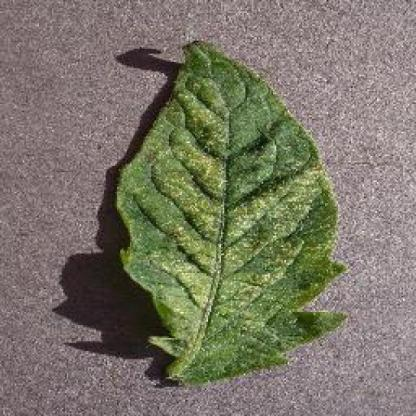Tomato_Spider_Mites: (117, 40, 347, 375)
